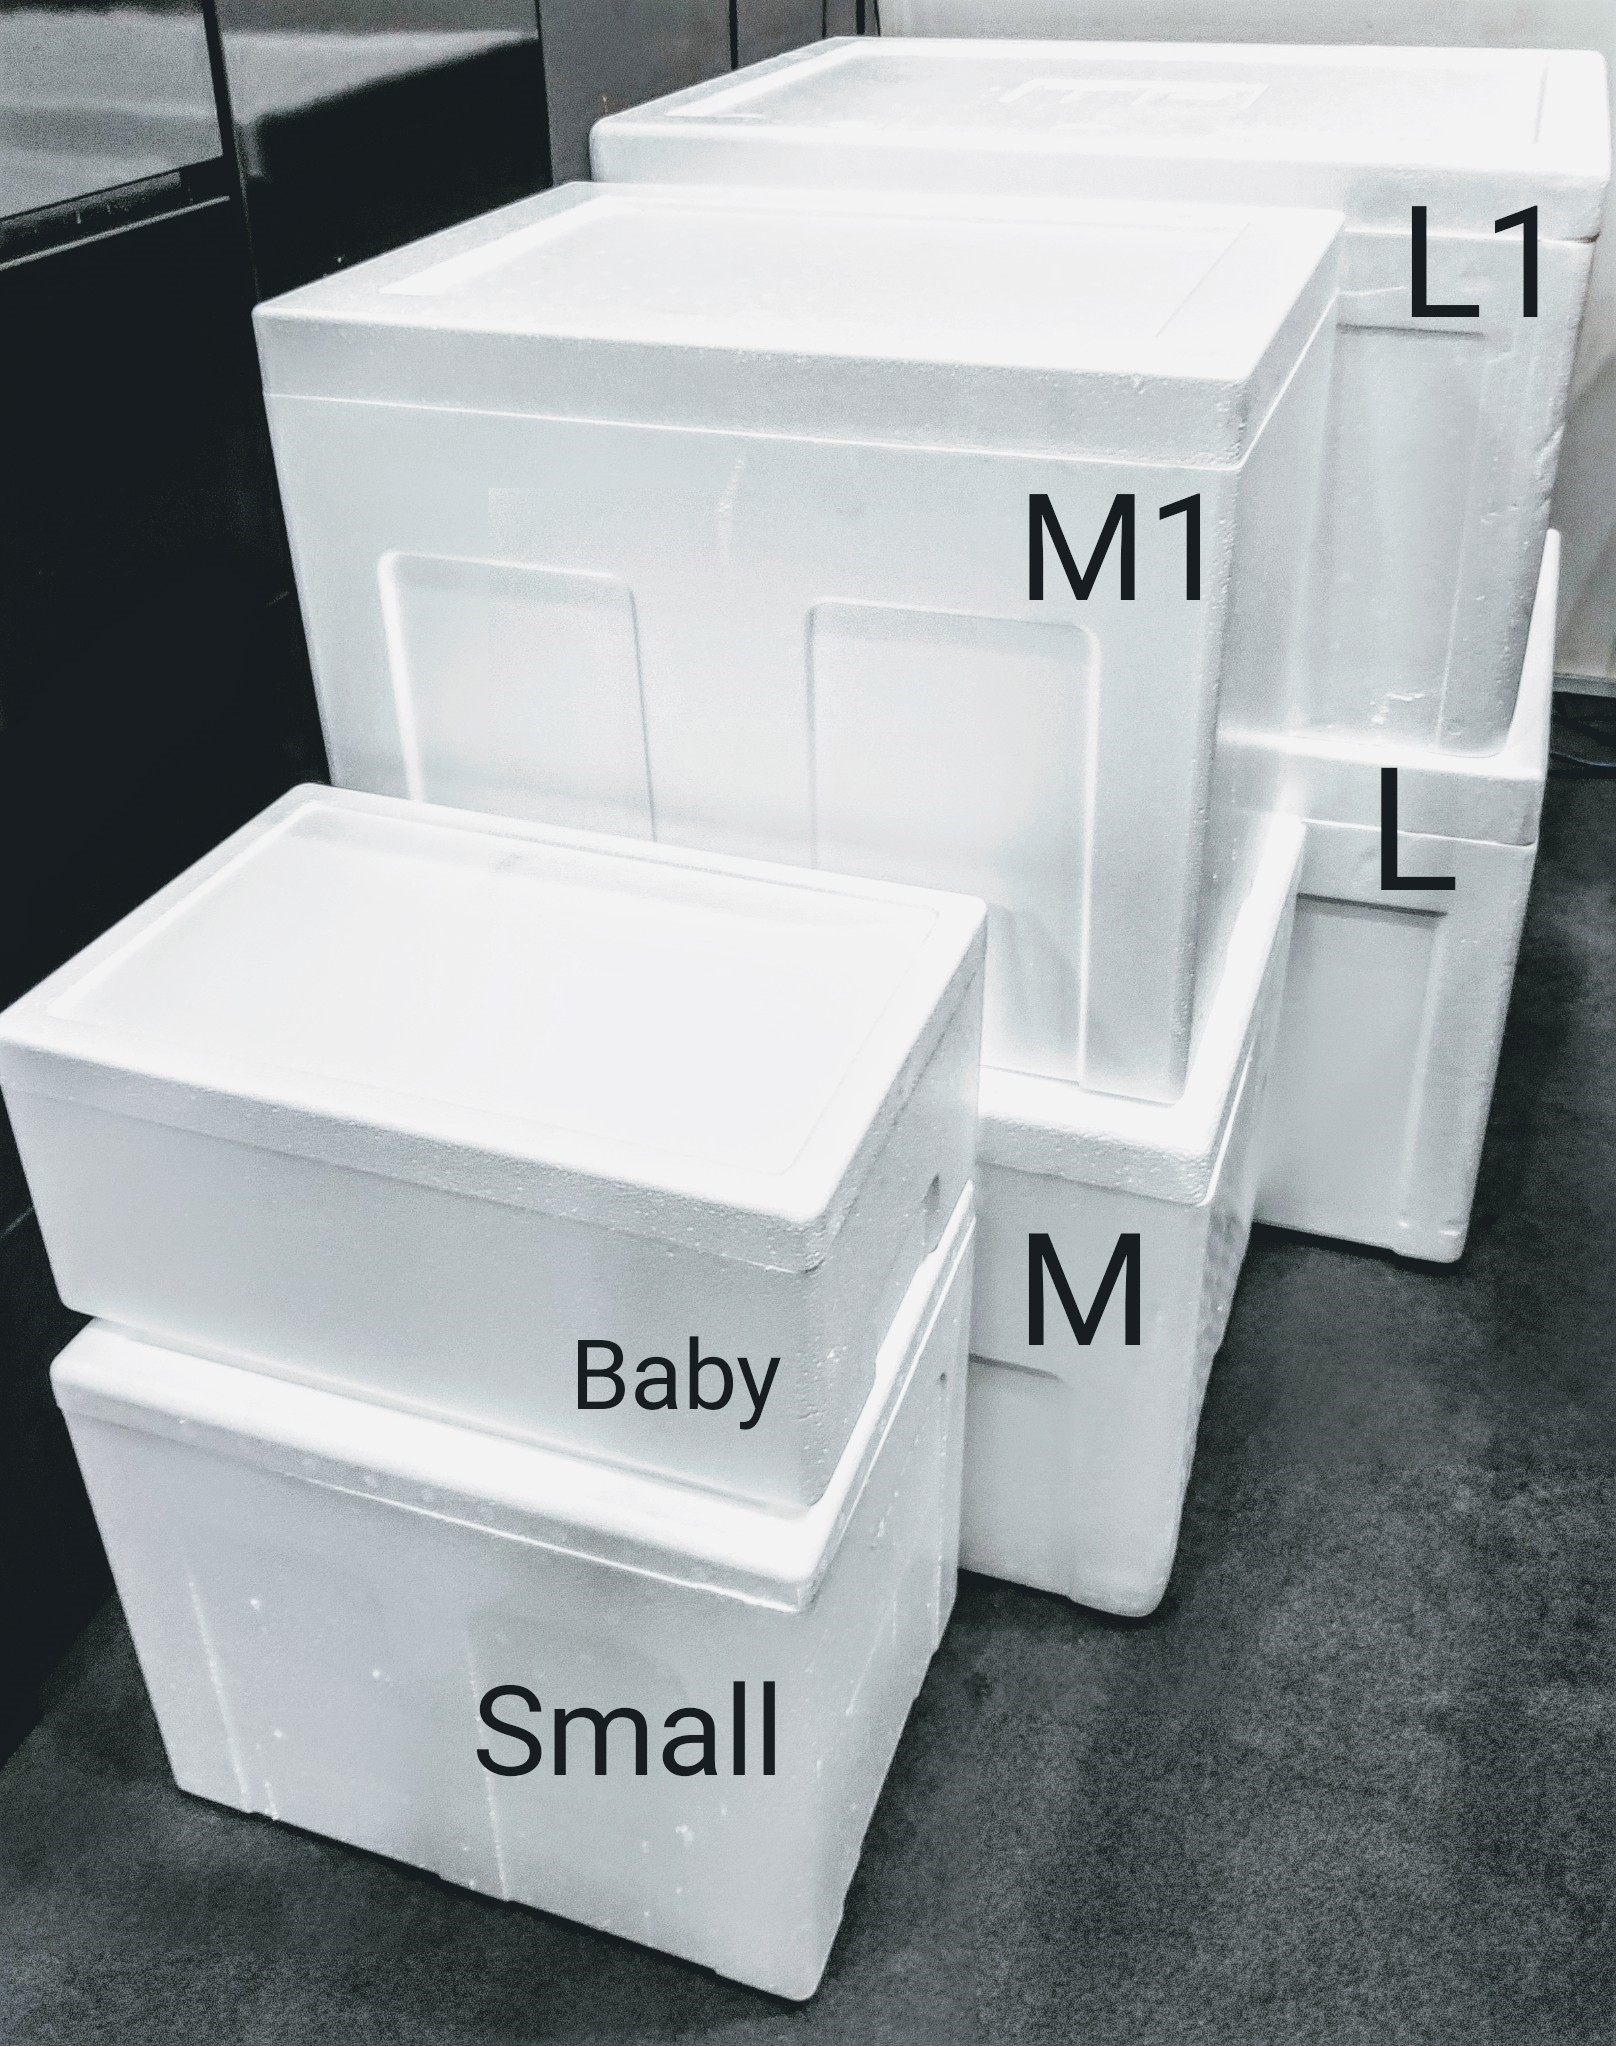Foam Box: (2, 761, 1020, 1525)
